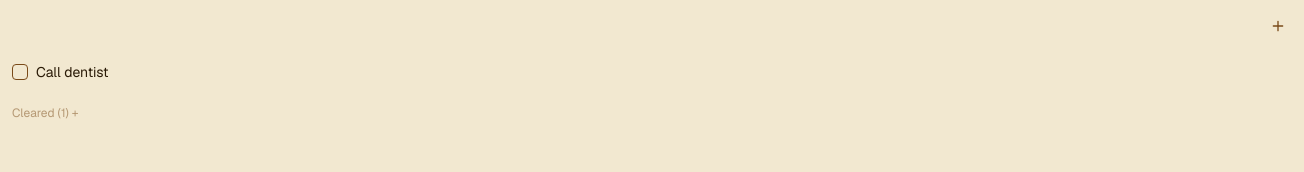
it: BackOfMind › shows pending items and done items behind Cleared section
The image size is (1304, 172).
Expected: the button "Call dentist" is shown, [36,62,1274,82]
Expected: the text "Return package" is not shown
Click the button "Cleared (1) +" at coordinates (45, 113), box [12,105,78,121]
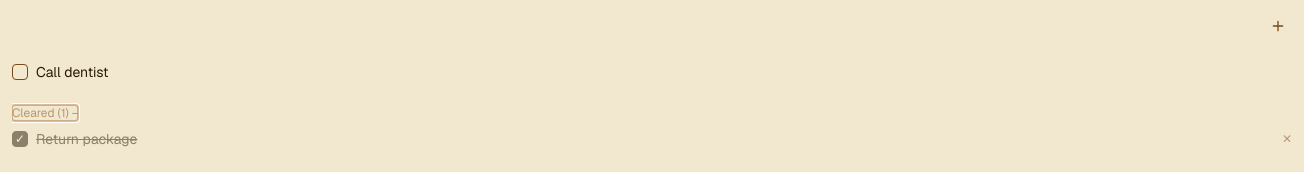
Now the text "Return package" is shown, box [36,130,137,148]
